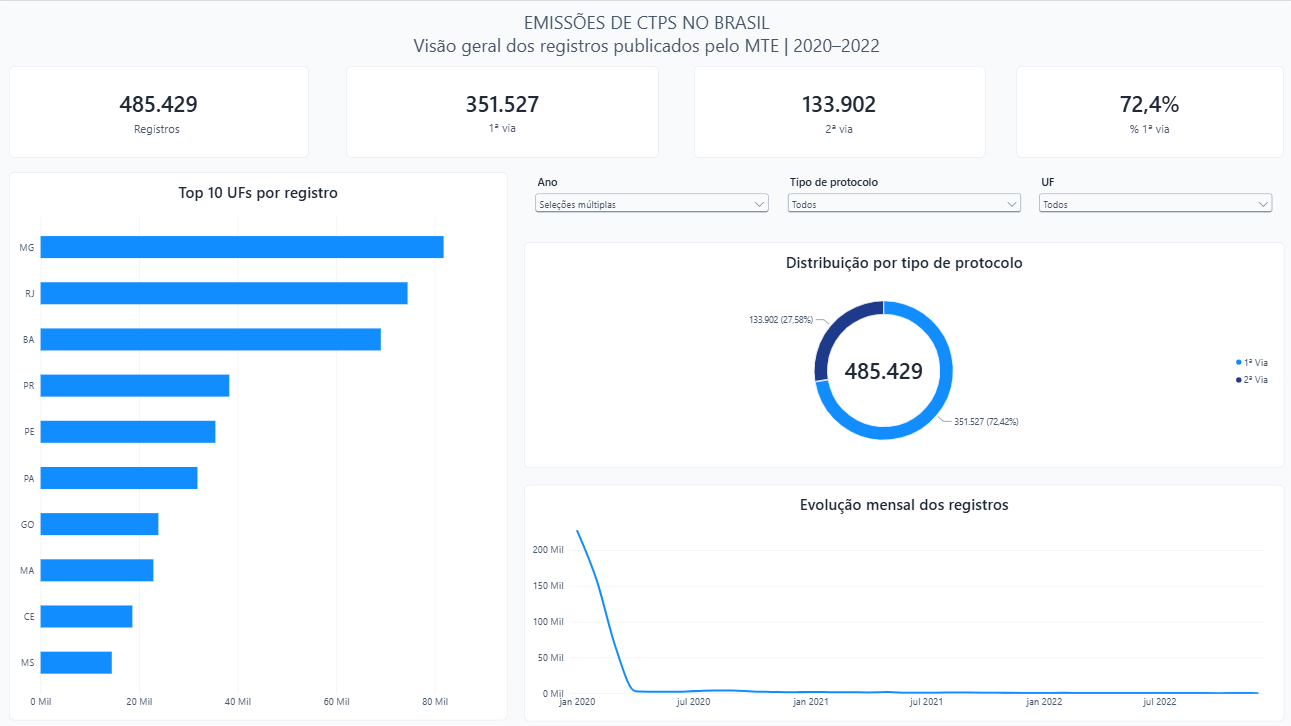

What the dashboard file says about the page in this screenshot:
{"tool":"powerbi","page":{"name":"Visão Geral","canvas":[1920,1080],"ordinal":0},"visuals":[{"type":"card","fields":{"Values":["ctps_emissoes.Registros publicados"]},"box":[14,96,444,136],"z":0},{"type":"card","fields":{"Values":["ctps_emissoes.Primeira via"]},"box":[514,96,462,136],"z":1000},{"type":"card","fields":{"Values":["ctps_emissoes.Segunda via"]},"box":[1030,96,432,136],"z":2000},{"type":"lineChart","title":"Evolução mensal dos registros","fields":{"Y":["ctps_emissoes.Registros publicados"],"Category":["Calendario.Date.Variation.Hierarquia de datas.Ano","Calendario.Date.Variation.Hierarquia de datas.Trimestre","Calendario.Date.Variation.Hierarquia de datas.Mês","Calendario.Date.Variation.Hierarquia de datas.Dia"]},"box":[778,716,1126,350],"z":3000},{"type":"textbox","box":[0,0,1920,96],"z":4000},{"type":"card","fields":{"Values":["ctps_emissoes.Percentual primeira via"]},"box":[1508,96,396,136],"z":5000},{"type":"barChart","title":"Top 10 UFs por registro","fields":{"Category":["ctps_emissoes.Sigla UF Órgão"],"Y":["ctps_emissoes.Registros publicados"]},"box":[14,254,738,812],"z":5001},{"type":"donutChart","title":"Distribuição por tipo de protocolo","fields":{"Category":["ctps_emissoes.Tipo Protocolo"],"Y":["ctps_emissoes.Registros publicados"]},"box":[778,358,1126,334],"z":5002},{"type":"slicer","fields":{"Values":["Calendario.Ano"]},"box":[778,244,380,100],"z":5003},{"type":"slicer","fields":{"Values":["ctps_emissoes.Sigla UF Órgão"]},"box":[1524,244,380,100],"z":5004},{"type":"slicer","fields":{"Values":["ctps_emissoes.Tipo Protocolo"]},"box":[1152,244,380,100],"z":5005}]}

Visuals, with their boxes in screenshot pixels (x1, y1, x2, y2), scaled from the page's 1920x1080 canvas onto the 1291x726 screenshot:
card - ctps_emissoes.Registros publicados: 9/65/308/156
card - ctps_emissoes.Primeira via: 346/65/656/156
card - ctps_emissoes.Segunda via: 693/65/983/156
"Evolução mensal dos registros" lineChart: 523/481/1280/717
textbox: 0/0/1290/65
card - ctps_emissoes.Percentual primeira via: 1014/65/1280/156
"Top 10 UFs por registro" barChart: 9/171/506/717
"Distribuição por tipo de protocolo" donutChart: 523/241/1280/465
slicer - Calendario.Ano: 523/164/779/231
slicer - ctps_emissoes.Sigla UF Órgão: 1025/164/1280/231
slicer - ctps_emissoes.Tipo Protocolo: 775/164/1030/231
